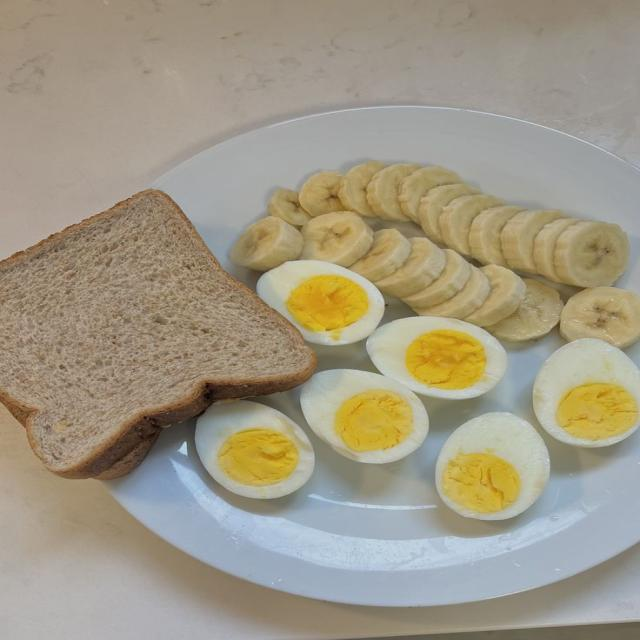banana slice: (554, 221, 629, 287), (560, 286, 639, 348), (487, 279, 563, 341), (401, 250, 474, 309), (375, 238, 444, 298), (411, 267, 490, 319), (301, 211, 372, 267), (439, 194, 503, 256), (230, 216, 302, 271), (502, 209, 563, 273), (461, 265, 524, 326), (418, 183, 479, 244), (525, 217, 581, 282), (399, 166, 462, 222), (349, 229, 410, 285), (470, 206, 523, 266), (367, 164, 420, 221), (338, 160, 386, 217), (300, 171, 350, 216), (269, 189, 310, 226)
egg boiled: (436, 413, 549, 519), (300, 370, 428, 463), (195, 400, 314, 498), (533, 338, 639, 447), (367, 317, 506, 399), (257, 261, 384, 345)
sliced bread: (0, 190, 316, 478)
